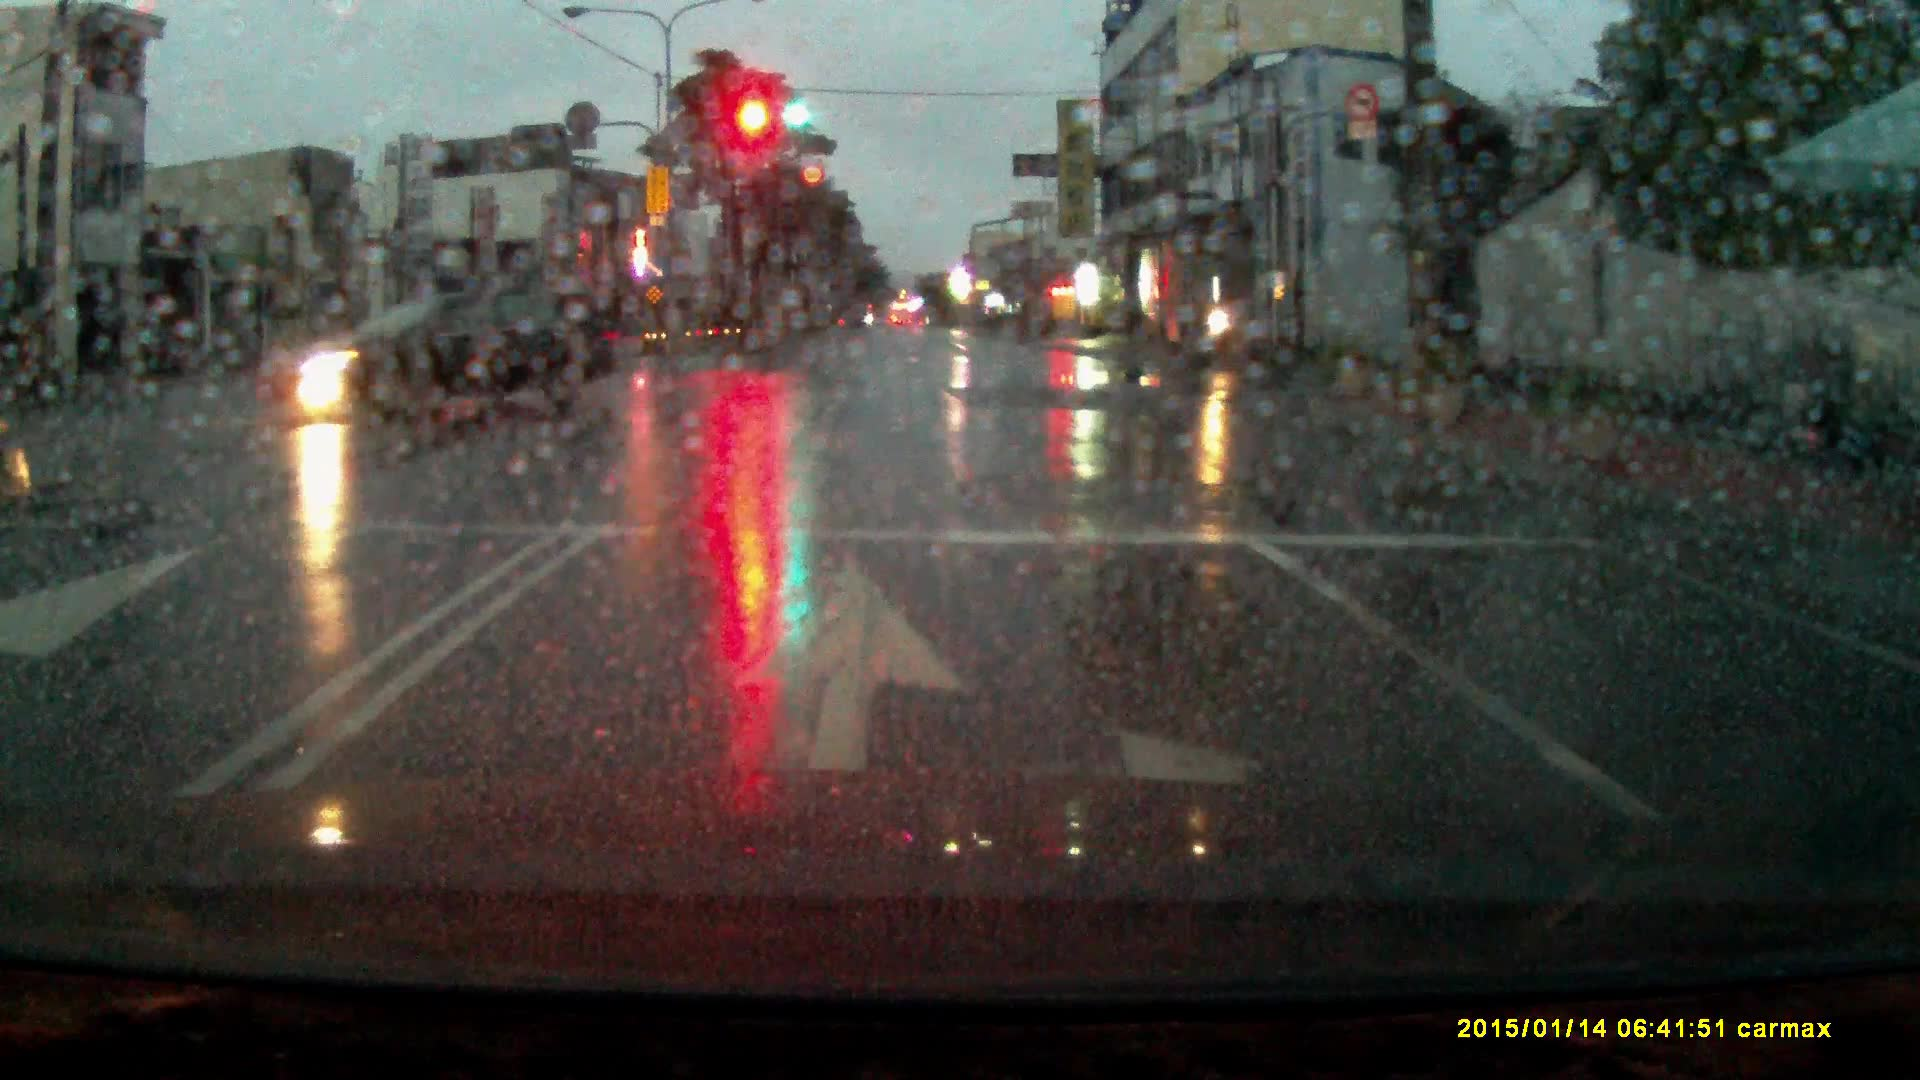rider: (1183, 282, 1270, 371)
vehicle: (273, 290, 617, 424)
